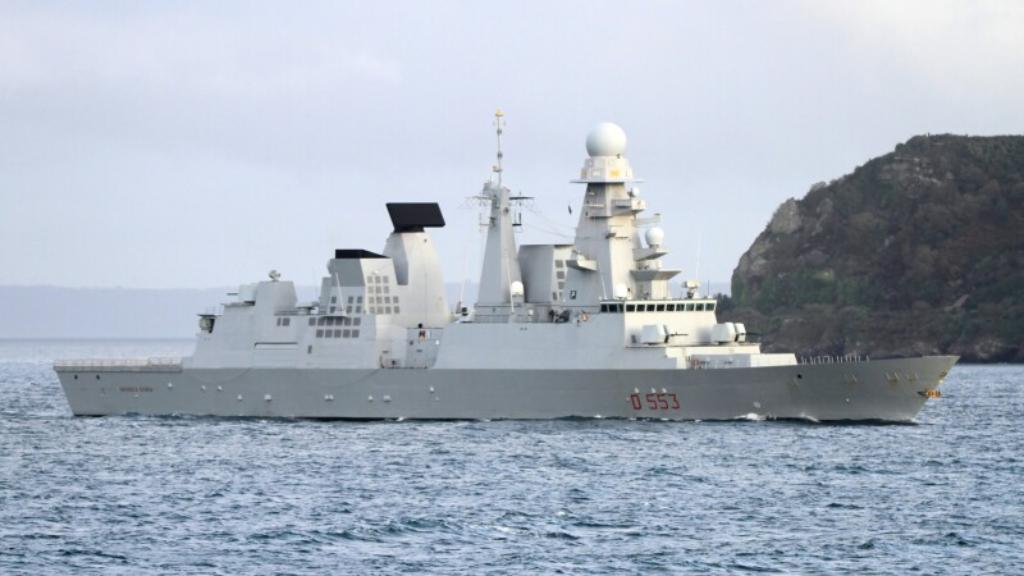Warship: (48, 106, 962, 428)
